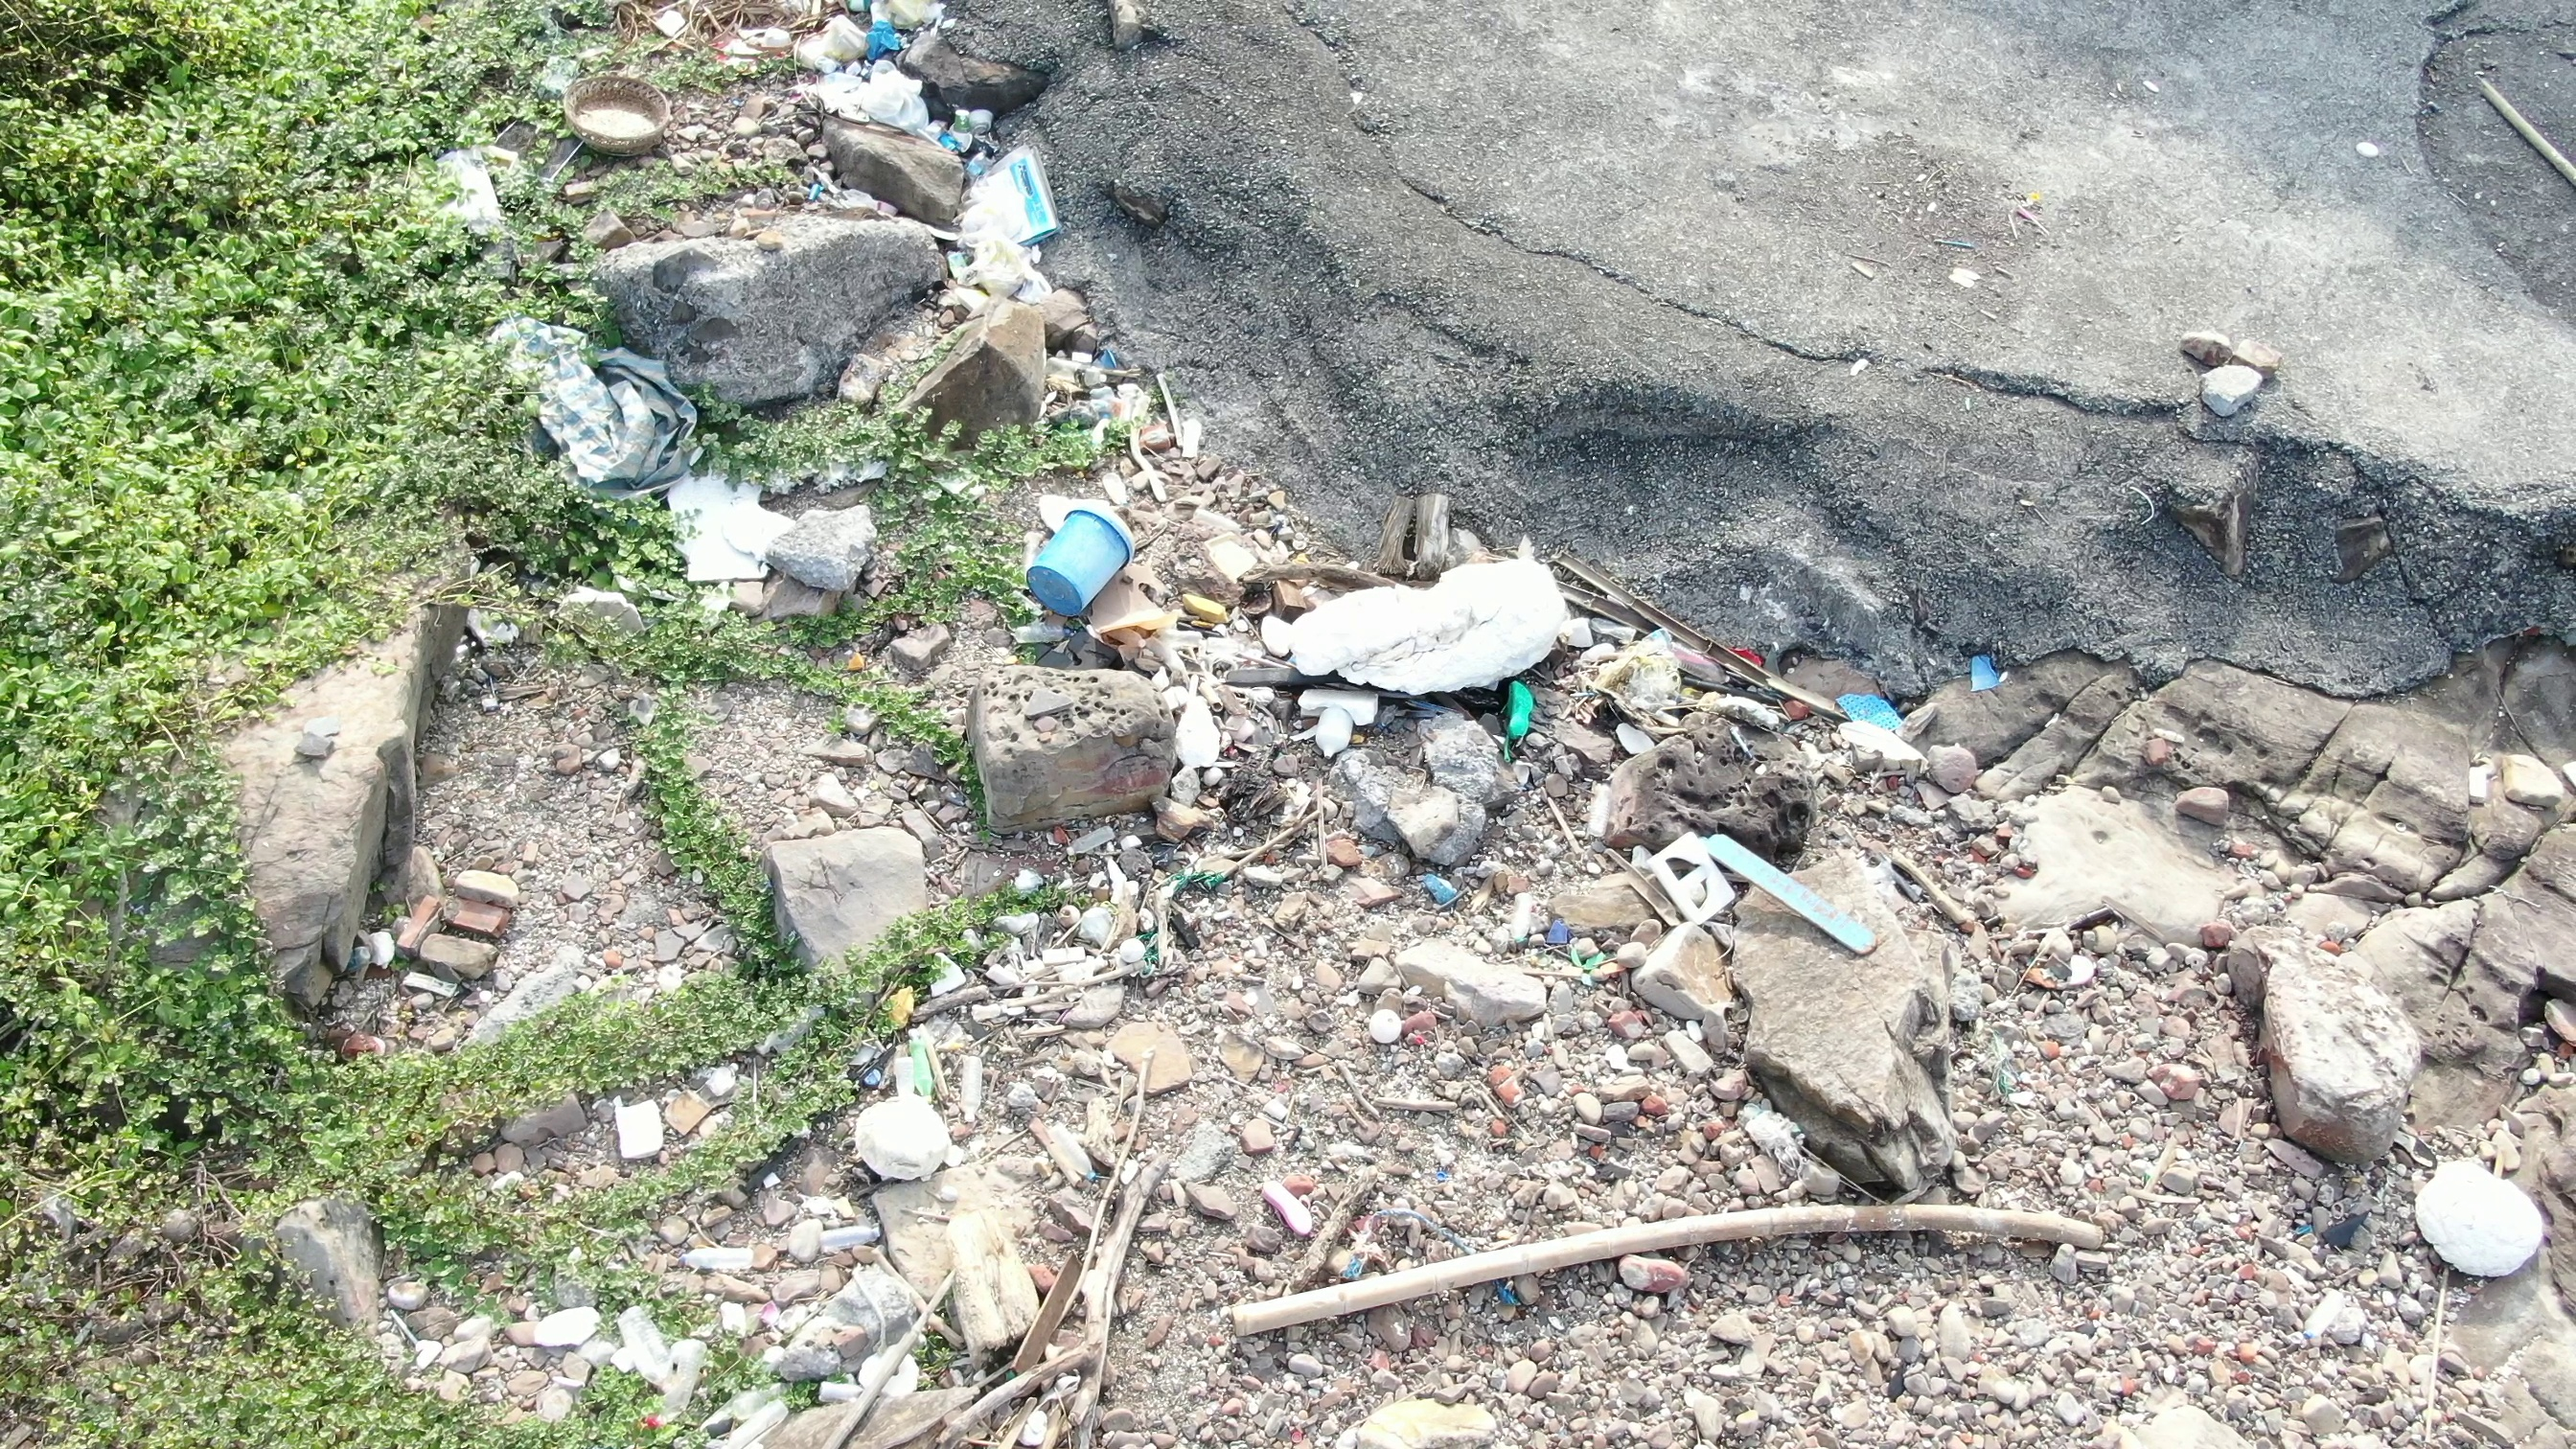garbage: (543, 2, 1063, 317), (1272, 540, 1569, 759), (478, 301, 718, 502), (1638, 817, 1877, 968), (853, 970, 959, 1187), (993, 502, 1143, 653), (669, 444, 793, 598), (1569, 619, 1718, 738), (1120, 856, 1253, 978), (414, 131, 513, 257), (1817, 679, 1920, 740), (1955, 630, 2008, 711)
